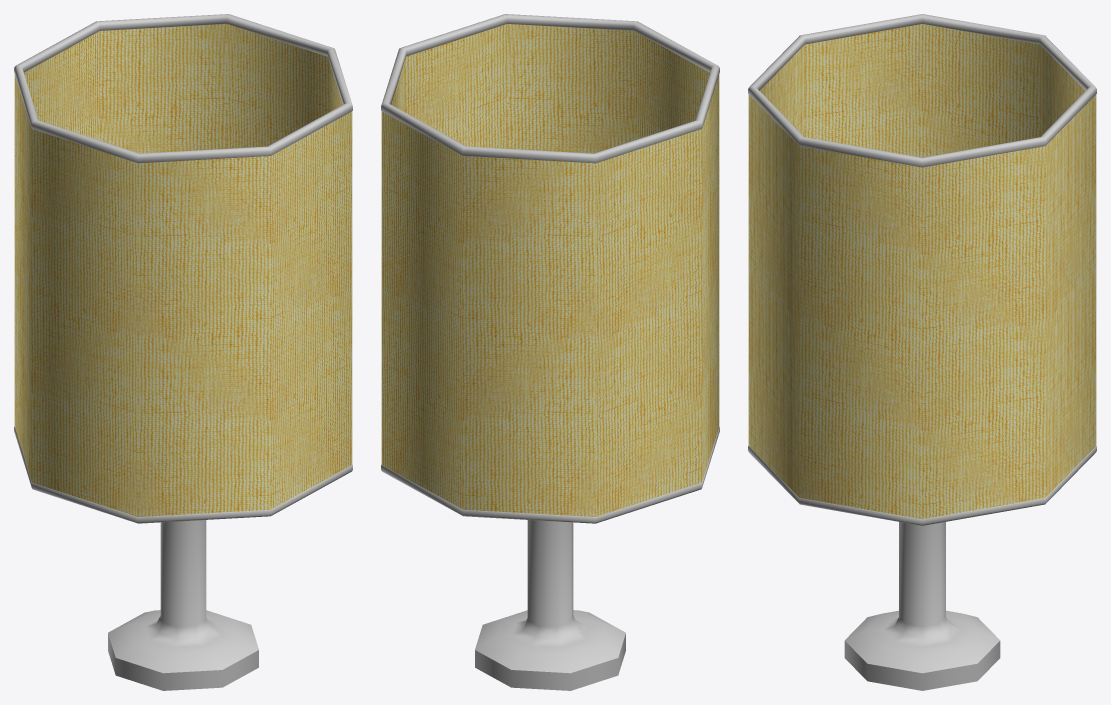
Rendered from Lamp_A.fbx.
3 views of the same model, side by side, from view 1: azimuth 30°, elevation 25°; view 2: azimuth 150°, elevation 25°; view 3: azimuth 270°, elevation 25° (orthographic).
Visible parts, largest first — view 1: LampShade, Lamp; view 2: LampShade, Lamp; view 3: LampShade, Lamp.
Part boxes in pixels (box(x1,y1,x2,y2)): LampShade: box(14, 24, 352, 516); Lamp: box(14, 14, 352, 690); LampShade: box(381, 24, 719, 516); Lamp: box(381, 14, 719, 690); LampShade: box(748, 24, 1096, 519); Lamp: box(748, 14, 1096, 690).
Bounding box in the file's own units: 51.52 × 93.15 × 51.52.
